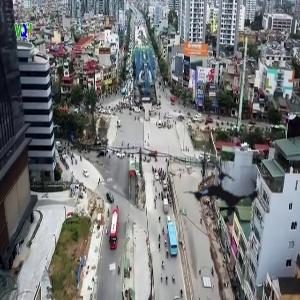drone: (169, 134, 283, 248)
